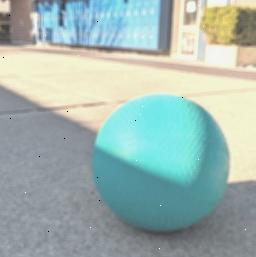algae: (90, 92, 229, 232)
